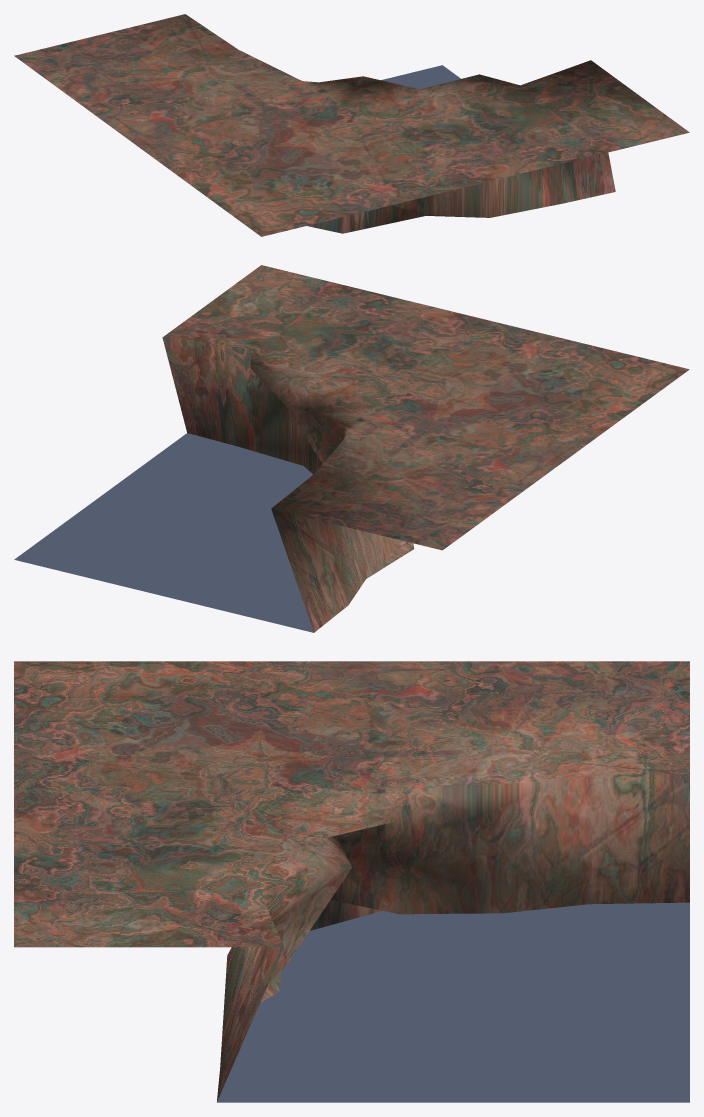
The model's file is cave_water_concave2.glb.
3 views of the same model, one above another, from view 1: azimuth 30°, elevation 25°; view 2: azimuth 150°, elevation 25°; view 3: azimuth 270°, elevation 25° (orthographic). The views are drawn at different scales.
Visible parts, largest first — view 1: water_concave2; view 2: water_concave2; view 3: water_concave2.
Part boxes in pixels (left/top/right/bottom): water_concave2: left=14, top=14, right=689, bottom=236; water_concave2: left=14, top=265, right=689, bottom=632; water_concave2: left=14, top=661, right=689, bottom=1102.
Size of the model in its own units: 2 by 0.5143 by 2.
2 materials, 1 textured.
